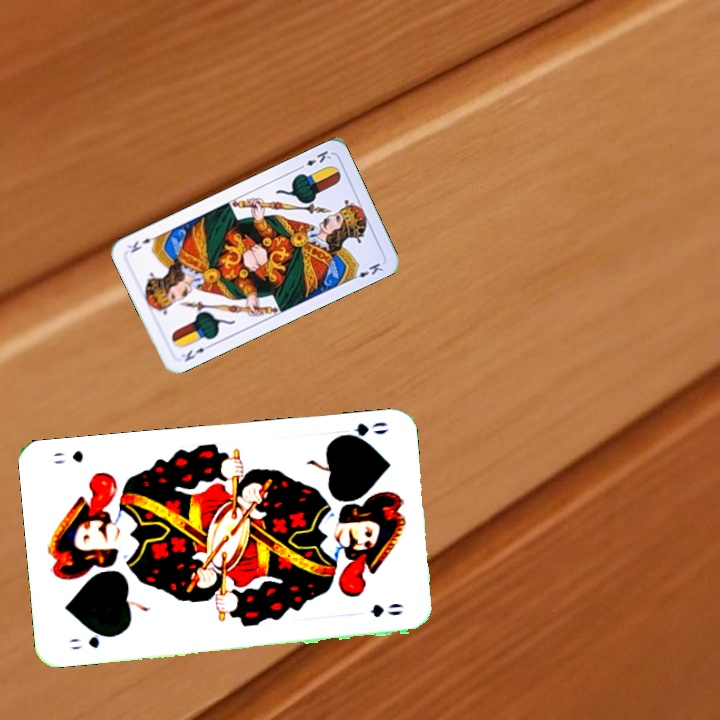EK: (294, 146, 334, 172), (177, 340, 214, 364)
GO: (332, 418, 391, 445), (66, 628, 118, 653)
